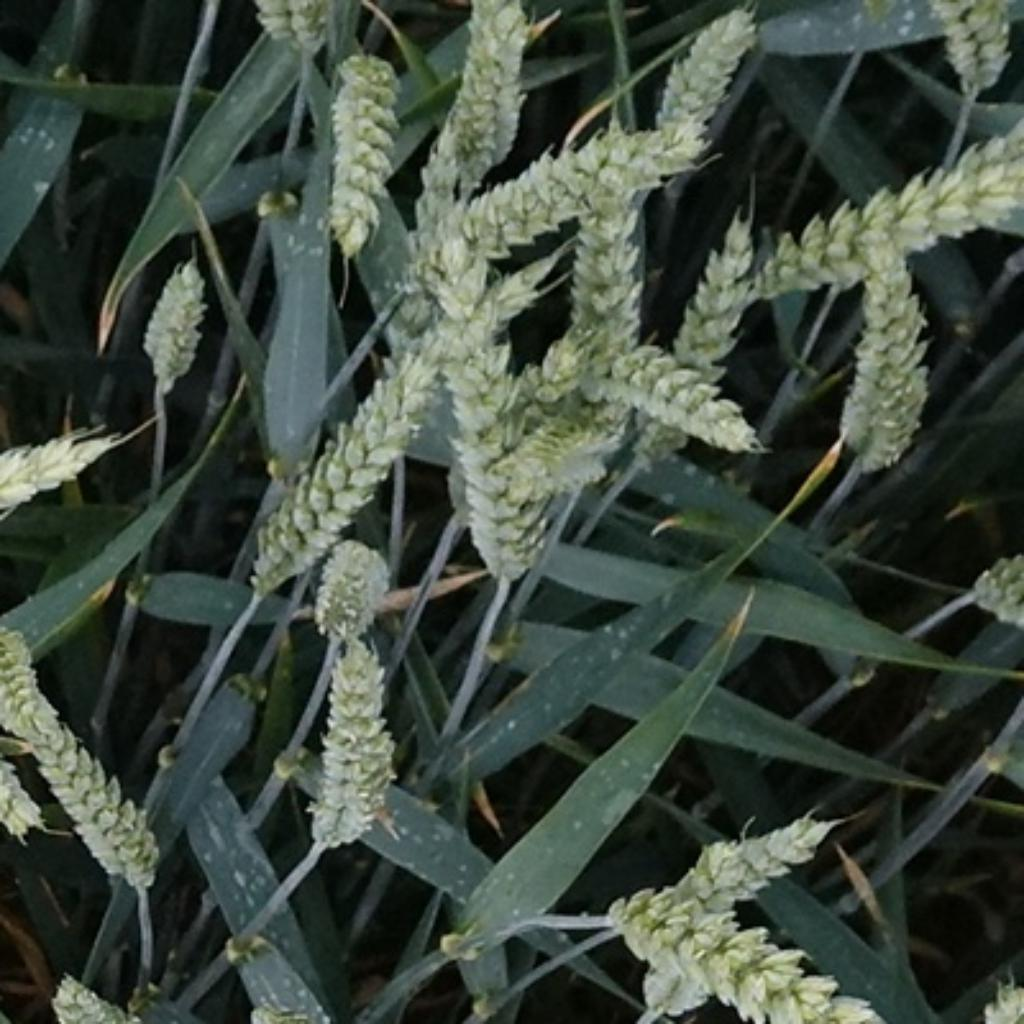0-0: (237, 238, 567, 601), (412, 194, 578, 588), (755, 122, 1024, 312), (606, 899, 885, 1024), (432, 117, 706, 240), (532, 327, 770, 463), (829, 235, 957, 481), (17, 688, 166, 893), (295, 634, 412, 863), (565, 99, 652, 394), (309, 30, 412, 266), (665, 197, 768, 396), (655, 796, 839, 904), (432, 2, 542, 176), (647, 5, 768, 138), (0, 424, 137, 528), (133, 248, 217, 397), (635, 902, 736, 1024), (494, 429, 618, 525), (916, 2, 1017, 106), (302, 532, 391, 637), (40, 957, 163, 1024), (0, 616, 61, 737), (251, 0, 329, 75), (971, 539, 1024, 649), (0, 758, 53, 851)
